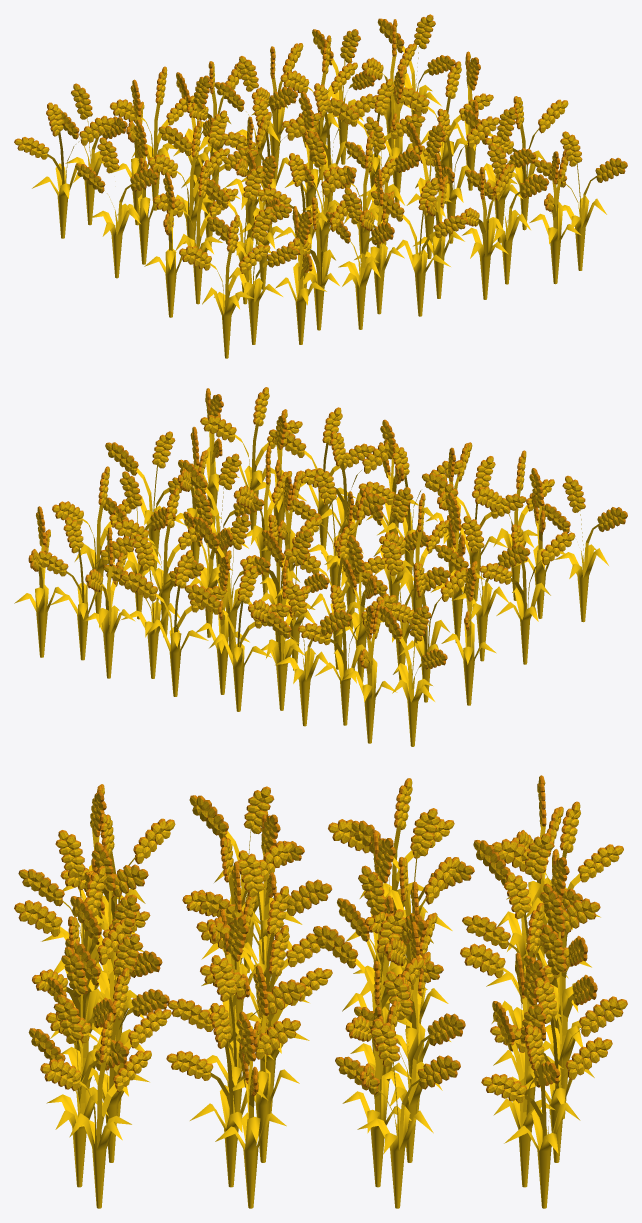
Rendered from Wheat_F3.fbx.
The picture shows the model from 3 angles, top to bottom: view 1: azimuth 30°, elevation 25°; view 2: azimuth 150°, elevation 25°; view 3: azimuth 270°, elevation 25°; orthographic projection. The views are drawn at different scales.
Visible parts, largest first — view 1: Wheat_F3; view 2: Wheat_F3; view 3: Wheat_F3.
Boxes of the visible parts, x1,y1,x2,y2 form: Wheat_F3: [14, 14, 627, 358]; Wheat_F3: [14, 387, 627, 746]; Wheat_F3: [14, 775, 627, 1208].
Size of the model in its own units: 257 by 76.4 by 226.
